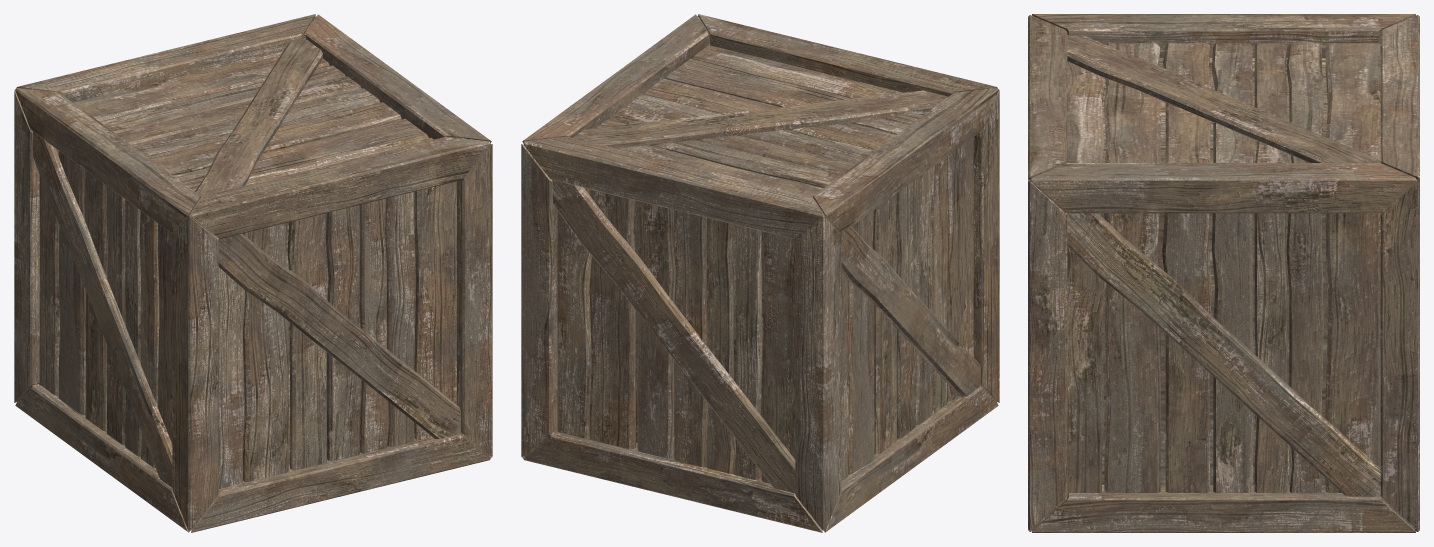
File: SM_Crate_B_01.fbx
3 views of the same model, side by side, from view 1: azimuth 30°, elevation 25°; view 2: azimuth 150°, elevation 25°; view 3: azimuth 270°, elevation 25° (orthographic). The views are drawn at different scales.
Visible parts, largest first — view 1: SM_Crate_B_01_LOD0; view 2: SM_Crate_B_01_LOD0; view 3: SM_Crate_B_01_LOD0.
Boxes of the visible parts, bbox=[...] form: SM_Crate_B_01_LOD0: bbox=[14, 14, 492, 532]; SM_Crate_B_01_LOD0: bbox=[521, 14, 999, 532]; SM_Crate_B_01_LOD0: bbox=[1028, 14, 1419, 532].
Size of the model in its own units: 60.1 by 60.1 by 60.1.
1 material, 1 textured.
